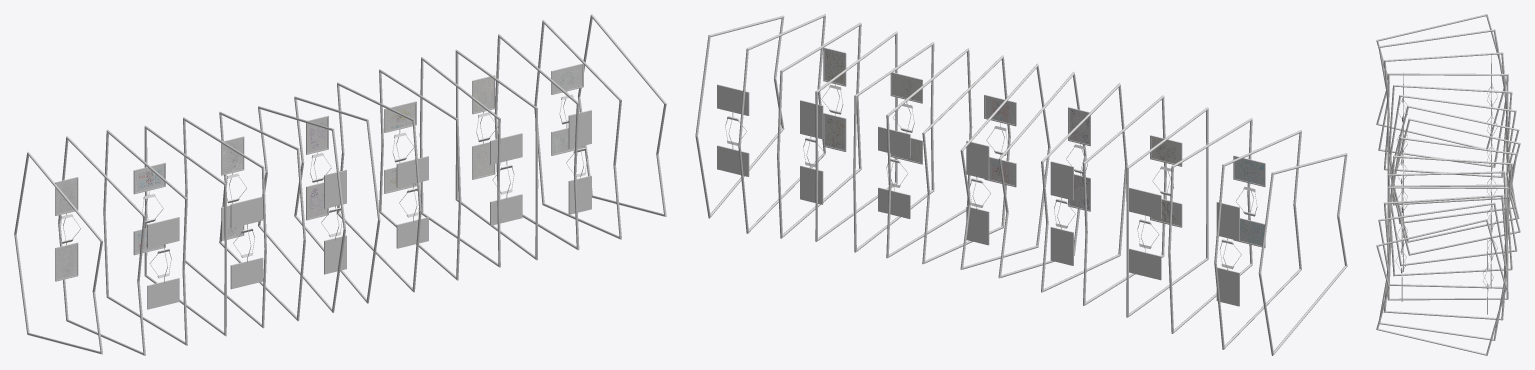
3 views of the same model, side by side, from view 1: azimuth 30°, elevation 25°; view 2: azimuth 150°, elevation 25°; view 3: azimuth 270°, elevation 25° (orthographic). The views are drawn at different scales.
Visible parts, largest first — view 1: Union.102_ID812, Union.095_ID755, Union.088_ID698, Union.081_ID641, Union.003_ID28, Union.001_ID14, Union.074_ID586, Union.078_ID614, Union.079_ID621, Union.075_ID593, Union.041_ID318, Union.002_ID21 (+21 smaller); view 2: Union.052_ID407, Union.066_ID528, Union.059_ID464, Union.077_ID607, Union.004_ID35, OuterShell_ID508, Union.074_ID586, Union.073_ID579, Union.075_ID593, Union.076_ID600, Union.072_ID572, Union.001_ID14 (+23 smaller); view 3: Union.073_ID579, Union.072_ID572, Union.001_ID14, Union.004_ID35, Union.079_ID621, Union.078_ID614, Union.002_ID21, Union.003_ID28, Union.075_ID593, Union.077_ID607, Union.041_ID318, Union.076_ID600 (+3 smaller).
Boxes of the visible parts, x1,y1,x2,y2 form: Union.102_ID812: (230, 196, 263, 289); Union.095_ID755: (147, 217, 179, 309); Union.088_ID698: (490, 133, 522, 225); Union.081_ID641: (396, 156, 428, 248); Union.003_ID28: (103, 129, 187, 345); Union.001_ID14: (534, 19, 621, 239); Union.074_ID586: (14, 151, 102, 354); Union.078_ID614: (455, 49, 538, 260); Union.079_ID621: (379, 69, 461, 280); Union.075_ID593: (419, 57, 500, 267); Union.041_ID318: (258, 106, 345, 312); Union.002_ID21: (337, 82, 421, 292); Union.052_ID407: (1129, 187, 1161, 280); Union.066_ID528: (717, 84, 749, 176); Union.059_ID464: (878, 126, 910, 218); Union.077_ID607: (1214, 130, 1301, 349); Union.004_ID35: (777, 22, 861, 238); OuterShell_ID508: (1041, 83, 1127, 292); Union.074_ID586: (1258, 153, 1347, 355); Union.073_ID579: (1126, 107, 1208, 317); Union.075_ID593: (853, 42, 934, 252); Union.076_ID600: (960, 63, 1050, 269); Union.072_ID572: (695, 15, 784, 218); Union.001_ID14: (738, 14, 825, 233); Union.073_ID579: (1387, 73, 1508, 186); Union.072_ID572: (1376, 219, 1506, 355); Union.001_ID14: (1378, 202, 1507, 340); Union.004_ID35: (1383, 194, 1507, 320); Union.079_ID621: (1390, 155, 1512, 276); Union.078_ID614: (1387, 186, 1508, 300); Union.002_ID21: (1391, 137, 1517, 266); Union.003_ID28: (1384, 52, 1506, 177); Union.075_ID593: (1388, 171, 1506, 288); Union.077_ID607: (1378, 29, 1506, 167); Union.041_ID318: (1390, 105, 1519, 242); Union.076_ID600: (1393, 118, 1520, 255).
Bounding box in the file's own units: 52.4 × 16.41 × 15.56.
Materials: 27 (26 with a texture image).
